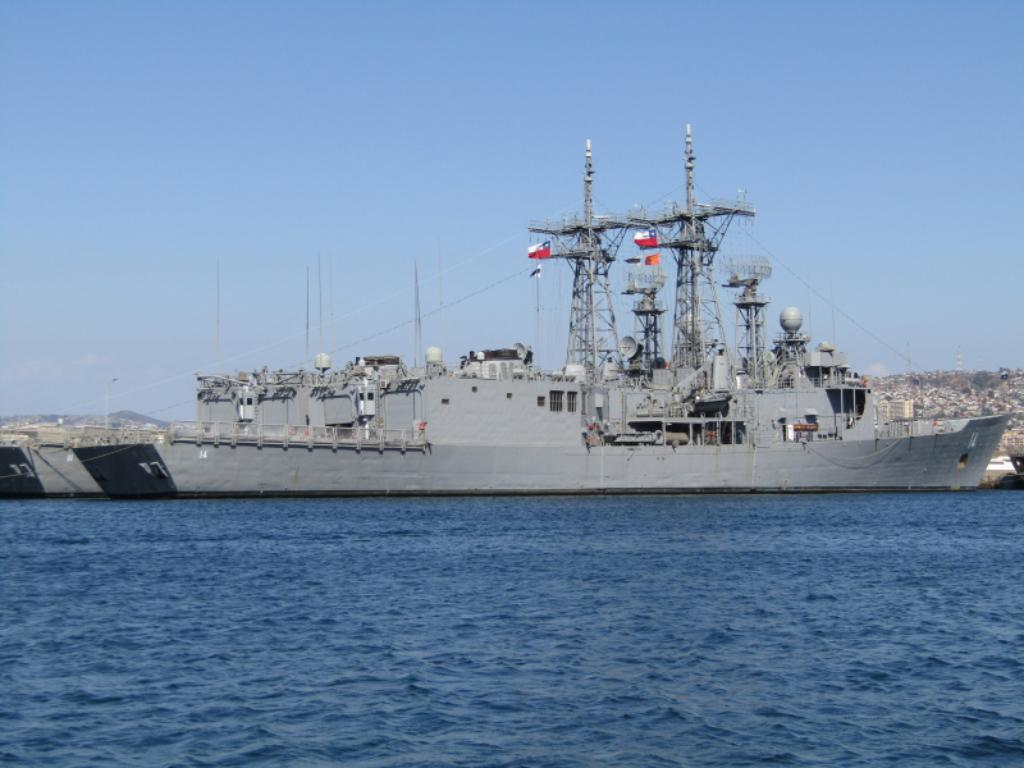Warship: (66, 119, 1024, 497)
